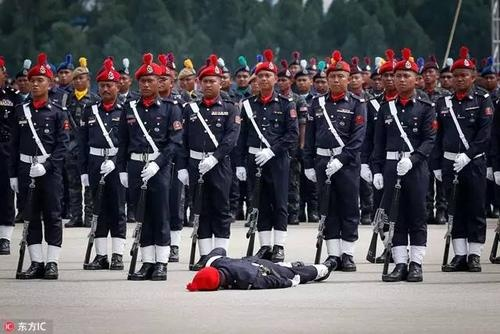falling: (190, 240, 342, 293)
